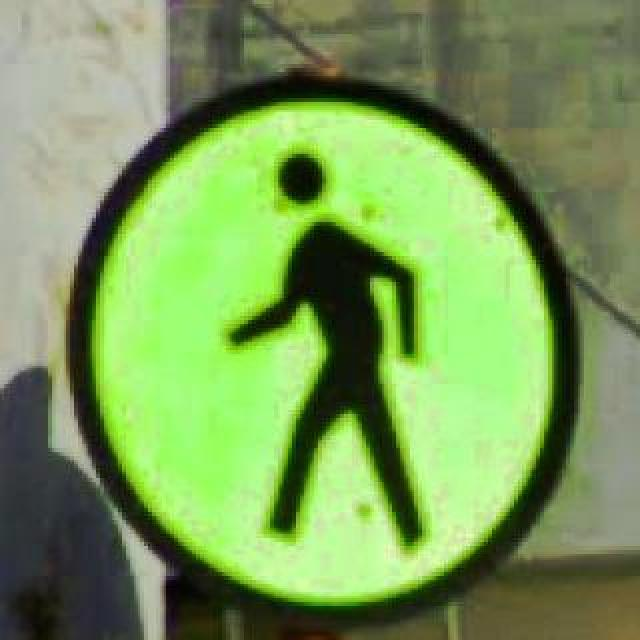pedestrian crossing: (62, 64, 584, 636)
